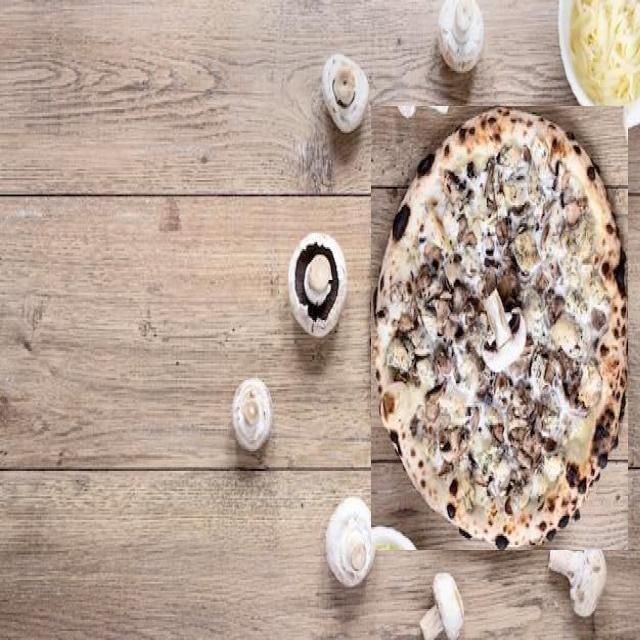pizza: (371, 106, 628, 550)
